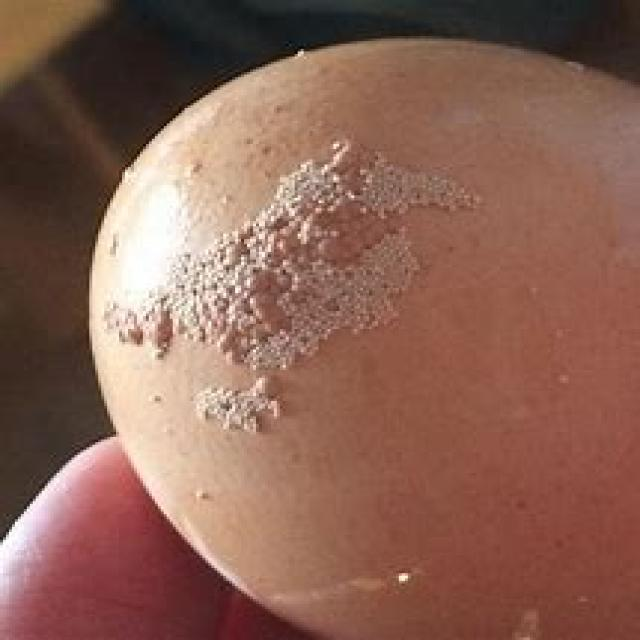Calcium Deposit Egg: (83, 31, 637, 640)
